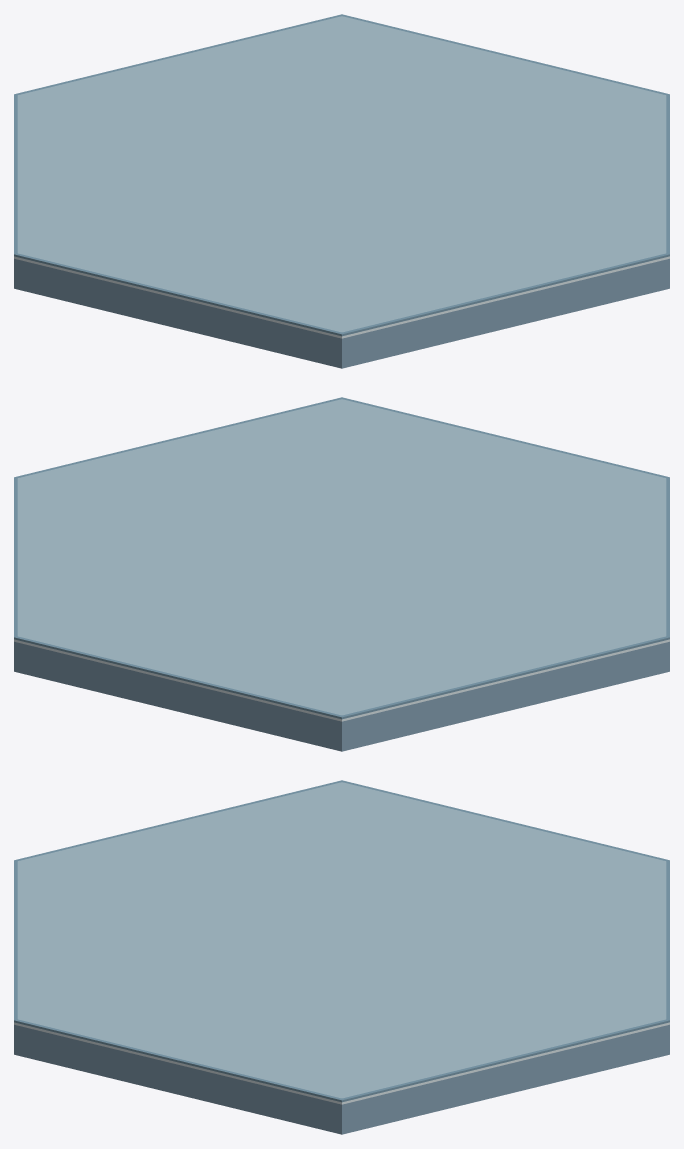
File: campus_base_hex_v01.glb
3 renders of one model, top to bottom at view 1: azimuth 30°, elevation 25°; view 2: azimuth 150°, elevation 25°; view 3: azimuth 270°, elevation 25°, orthographic.
Parts seen in each view (by area): view 1: campus_base_hex; view 2: campus_base_hex; view 3: campus_base_hex.
Part boxes in pixels (box(x1,y1,x2,y2)): campus_base_hex: box(14, 14, 669, 368); campus_base_hex: box(14, 397, 669, 751); campus_base_hex: box(14, 780, 669, 1134).
Size of the model in its own units: 24 by 1.2 by 20.78.
1 material, 1 textured.
